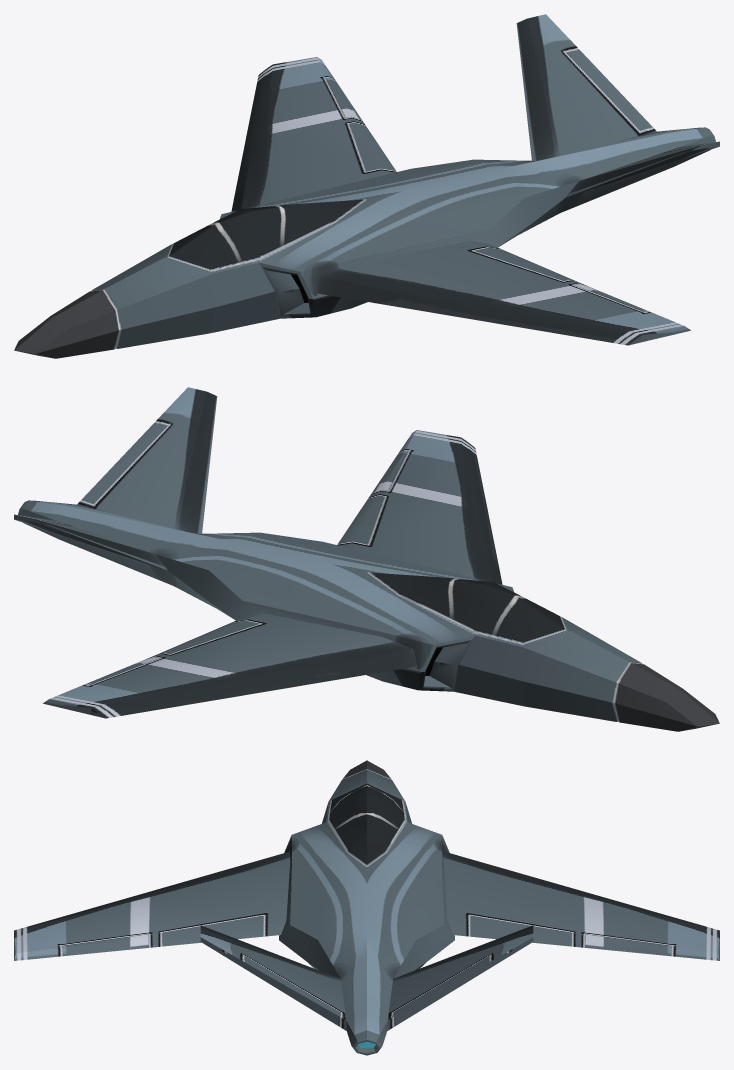
File: jet.glb
The picture shows the model from 3 angles, top to bottom: view 1: azimuth 30°, elevation 25°; view 2: azimuth 150°, elevation 25°; view 3: azimuth 270°, elevation 25°; orthographic projection. The views are drawn at different scales.
Visible parts, largest first — view 1: Object_2; view 2: Object_2; view 3: Object_2.
Boxes of the visible parts, bbox=[...] form: Object_2: bbox=[14, 14, 719, 358]; Object_2: bbox=[14, 387, 719, 731]; Object_2: bbox=[14, 760, 719, 1055].
Size of the model in its own units: 21.34 by 3.94 by 19.64.
1 material, 1 textured.
